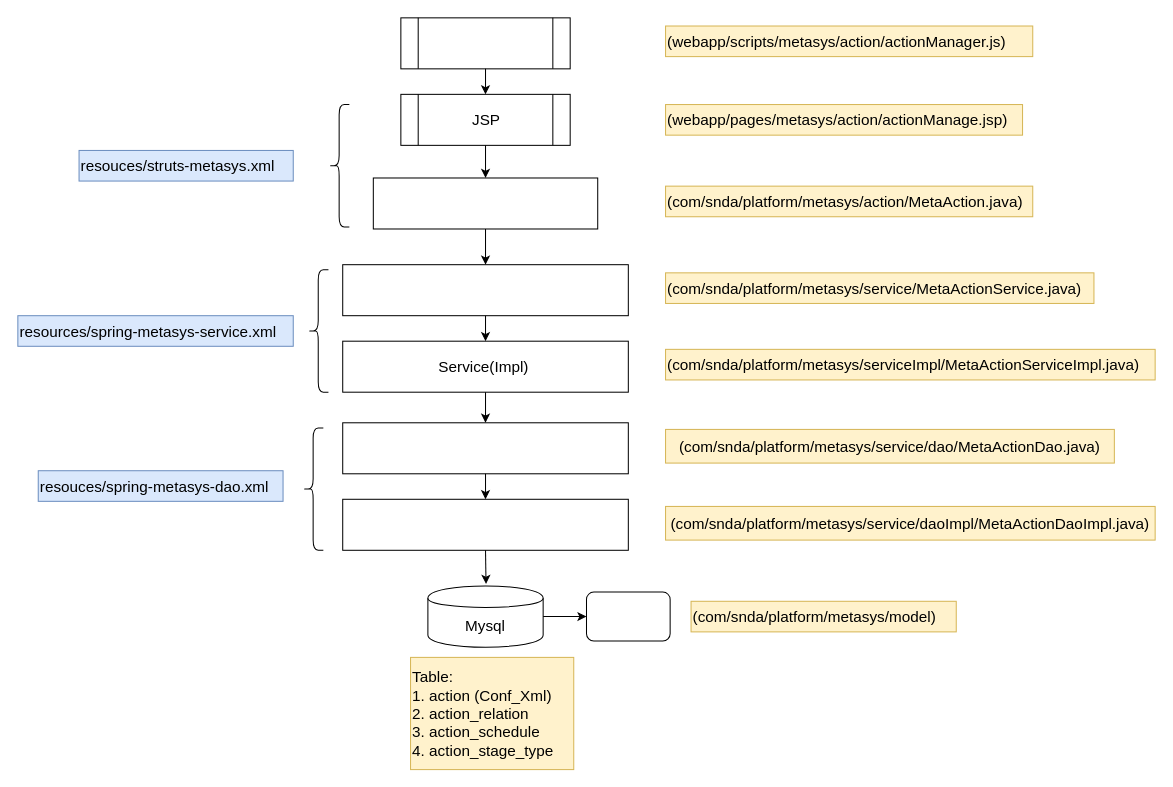
This 1173x787 diagram has some shape labels left out. The centre of each missing label's shape, as x and y in pixels:
Action: point 485,203
Dao (Impl): point 485,524
Dao (Interface): point 485,448
model: point 627,616
Service(Interface): point 485,290
WEB UI: point 485,43
